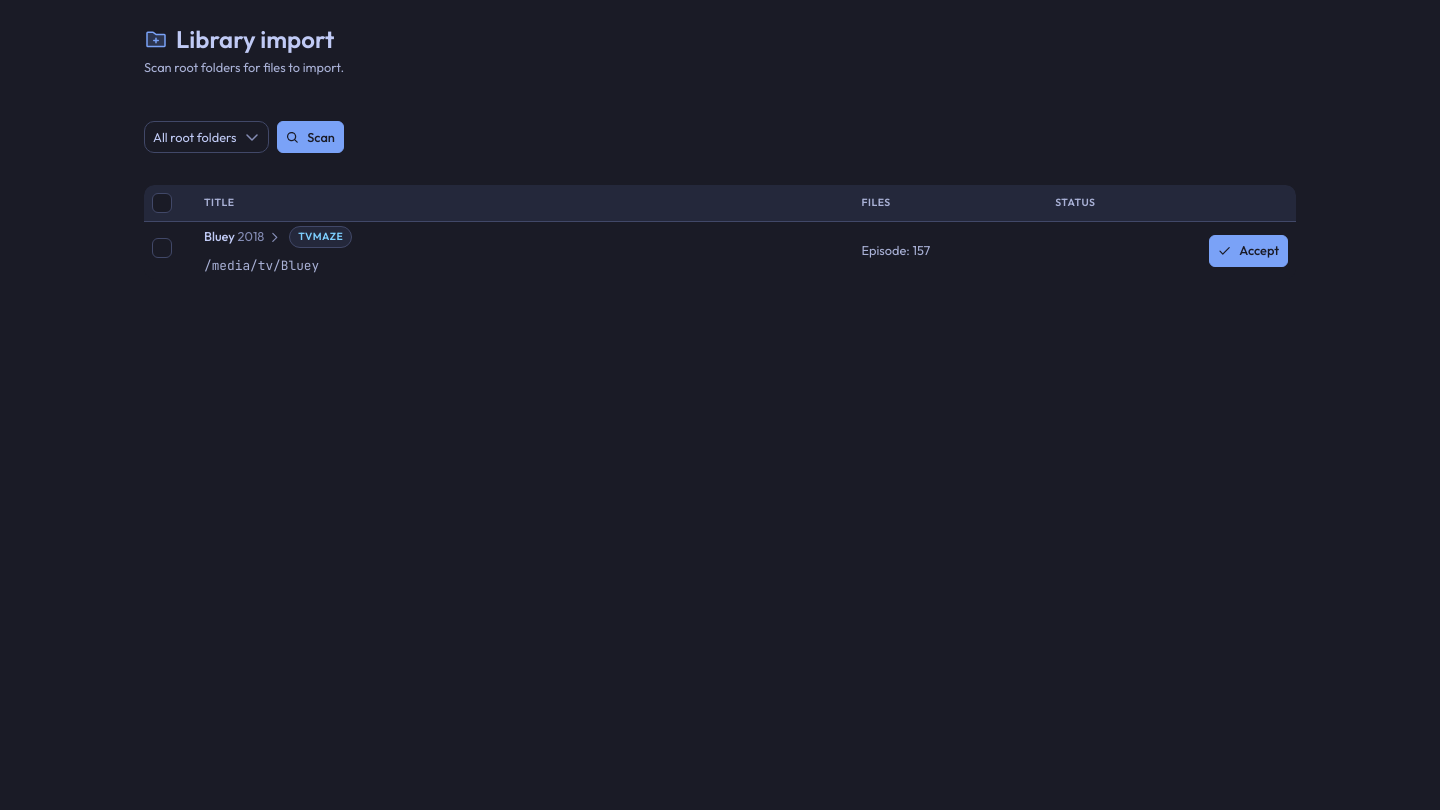
LibraryImportPage › keeps the generic failure toast when accepting a group fails with a non-404 status
Expected: the row "Bluey 2018 tvmaze /media/tv/Bluey Episode: 157 Accept" is shown, 144,222 -> 1296,279
Click the button "Accept".
click(1249, 251)  # box 1210,235 -> 1288,267
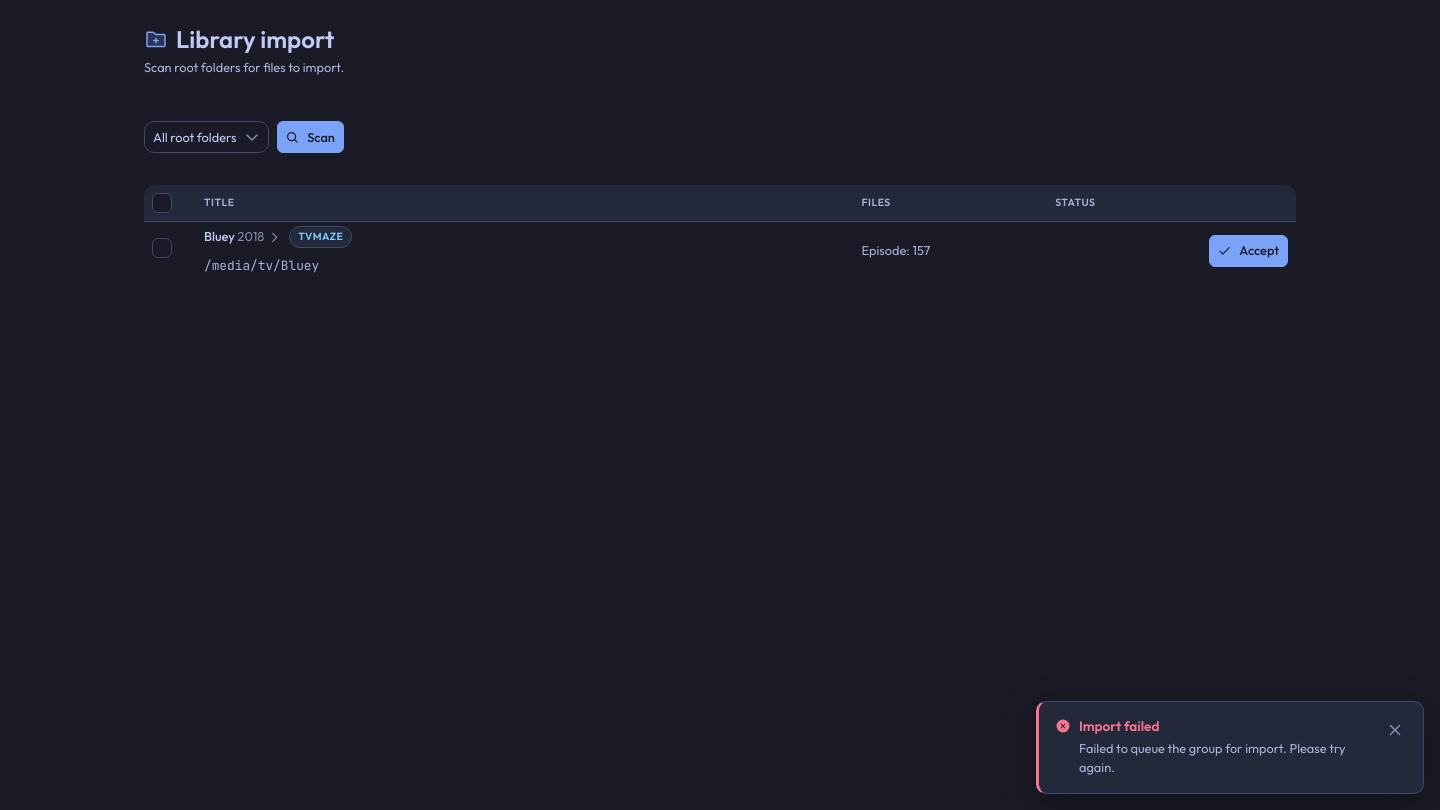
Expected: the text "Import failed" is shown, 1079,717 -> 1159,735
